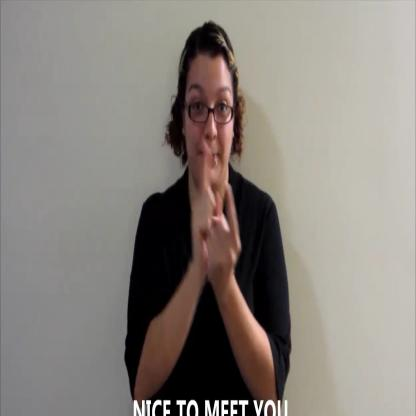NiceToMeetYou: (190, 134, 246, 305)
